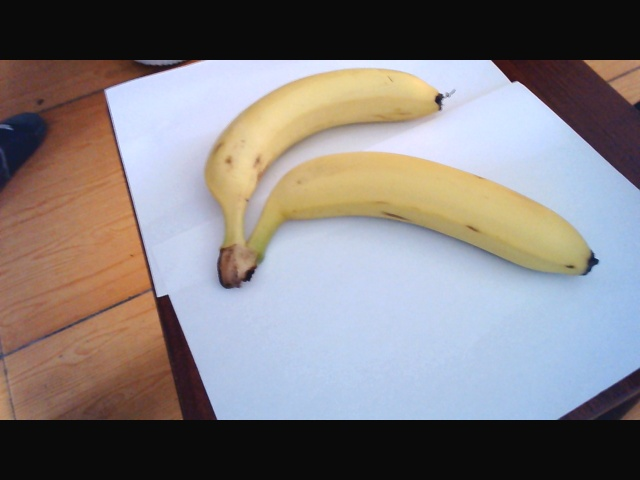banana: (234, 151, 596, 289), (195, 59, 454, 171)
